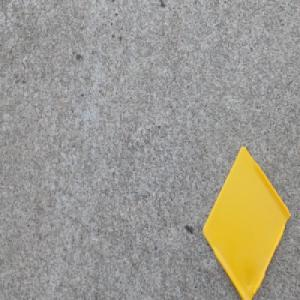PlasticPart: (201, 143, 291, 300)
